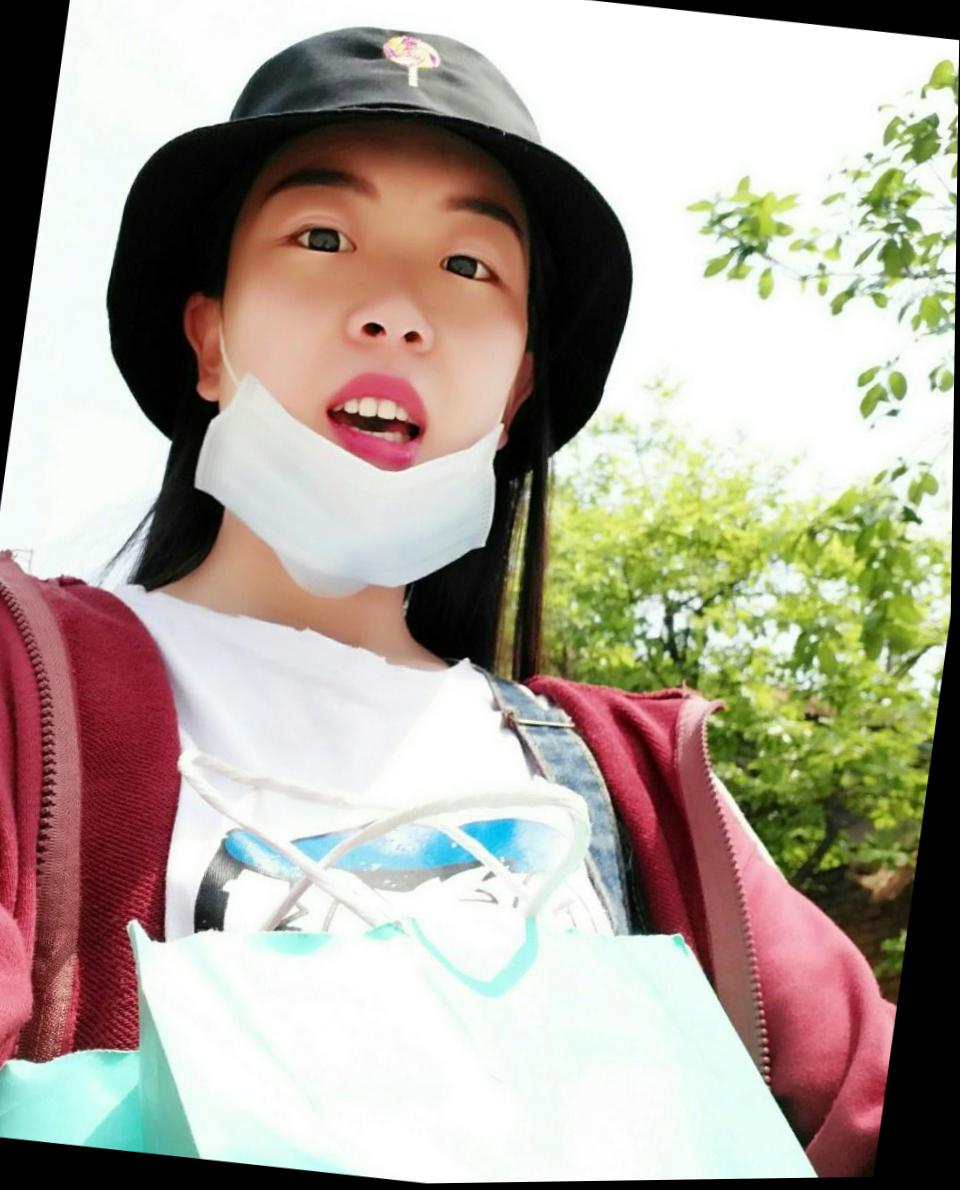WRONG: (187, 141, 564, 587)
